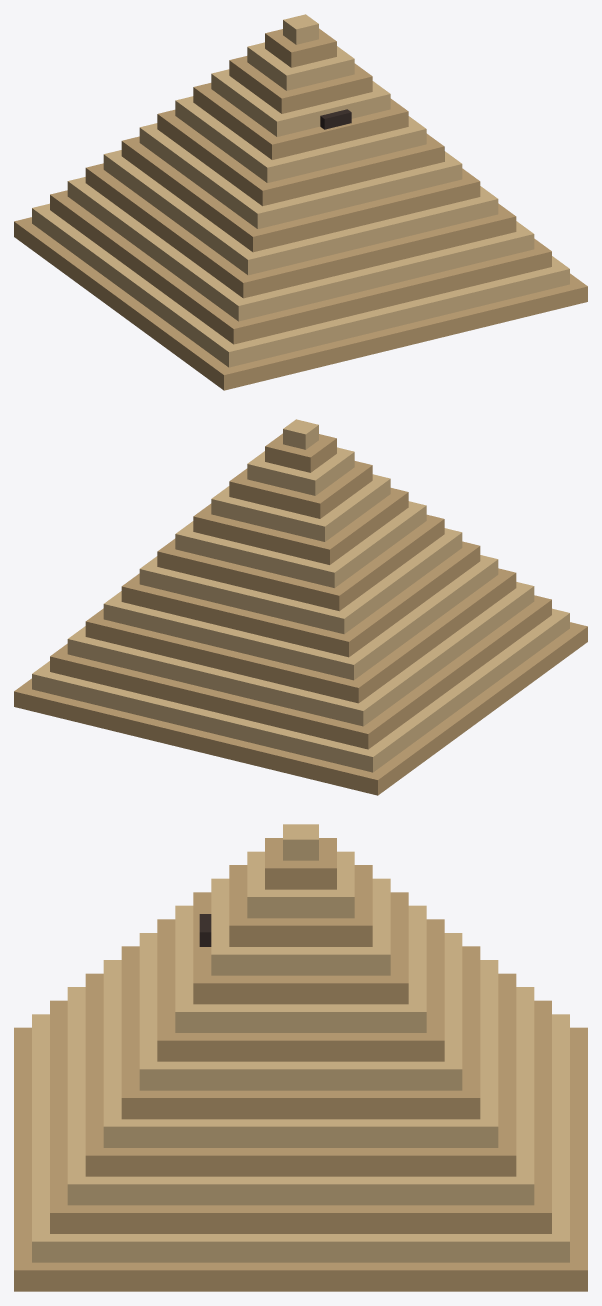
The model's file is pyramid_drottning.glb.
The picture shows the model from 3 angles, top to bottom: view 1: azimuth 30°, elevation 25°; view 2: azimuth 150°, elevation 25°; view 3: azimuth 270°, elevation 25°; orthographic projection. The views are drawn at different scales.
Parts seen in each view (by area): view 1: pyramid_drottning; view 2: pyramid_drottning; view 3: pyramid_drottning.
Part boxes in pixels (x1=…): pyramid_drottning: x1=14, y1=14, x2=587, y2=390; pyramid_drottning: x1=14, y1=419, x2=587, y2=795; pyramid_drottning: x1=14, y1=824, x2=587, y2=1291.
Bounding box in the file's own units: 40 × 26 × 40.
